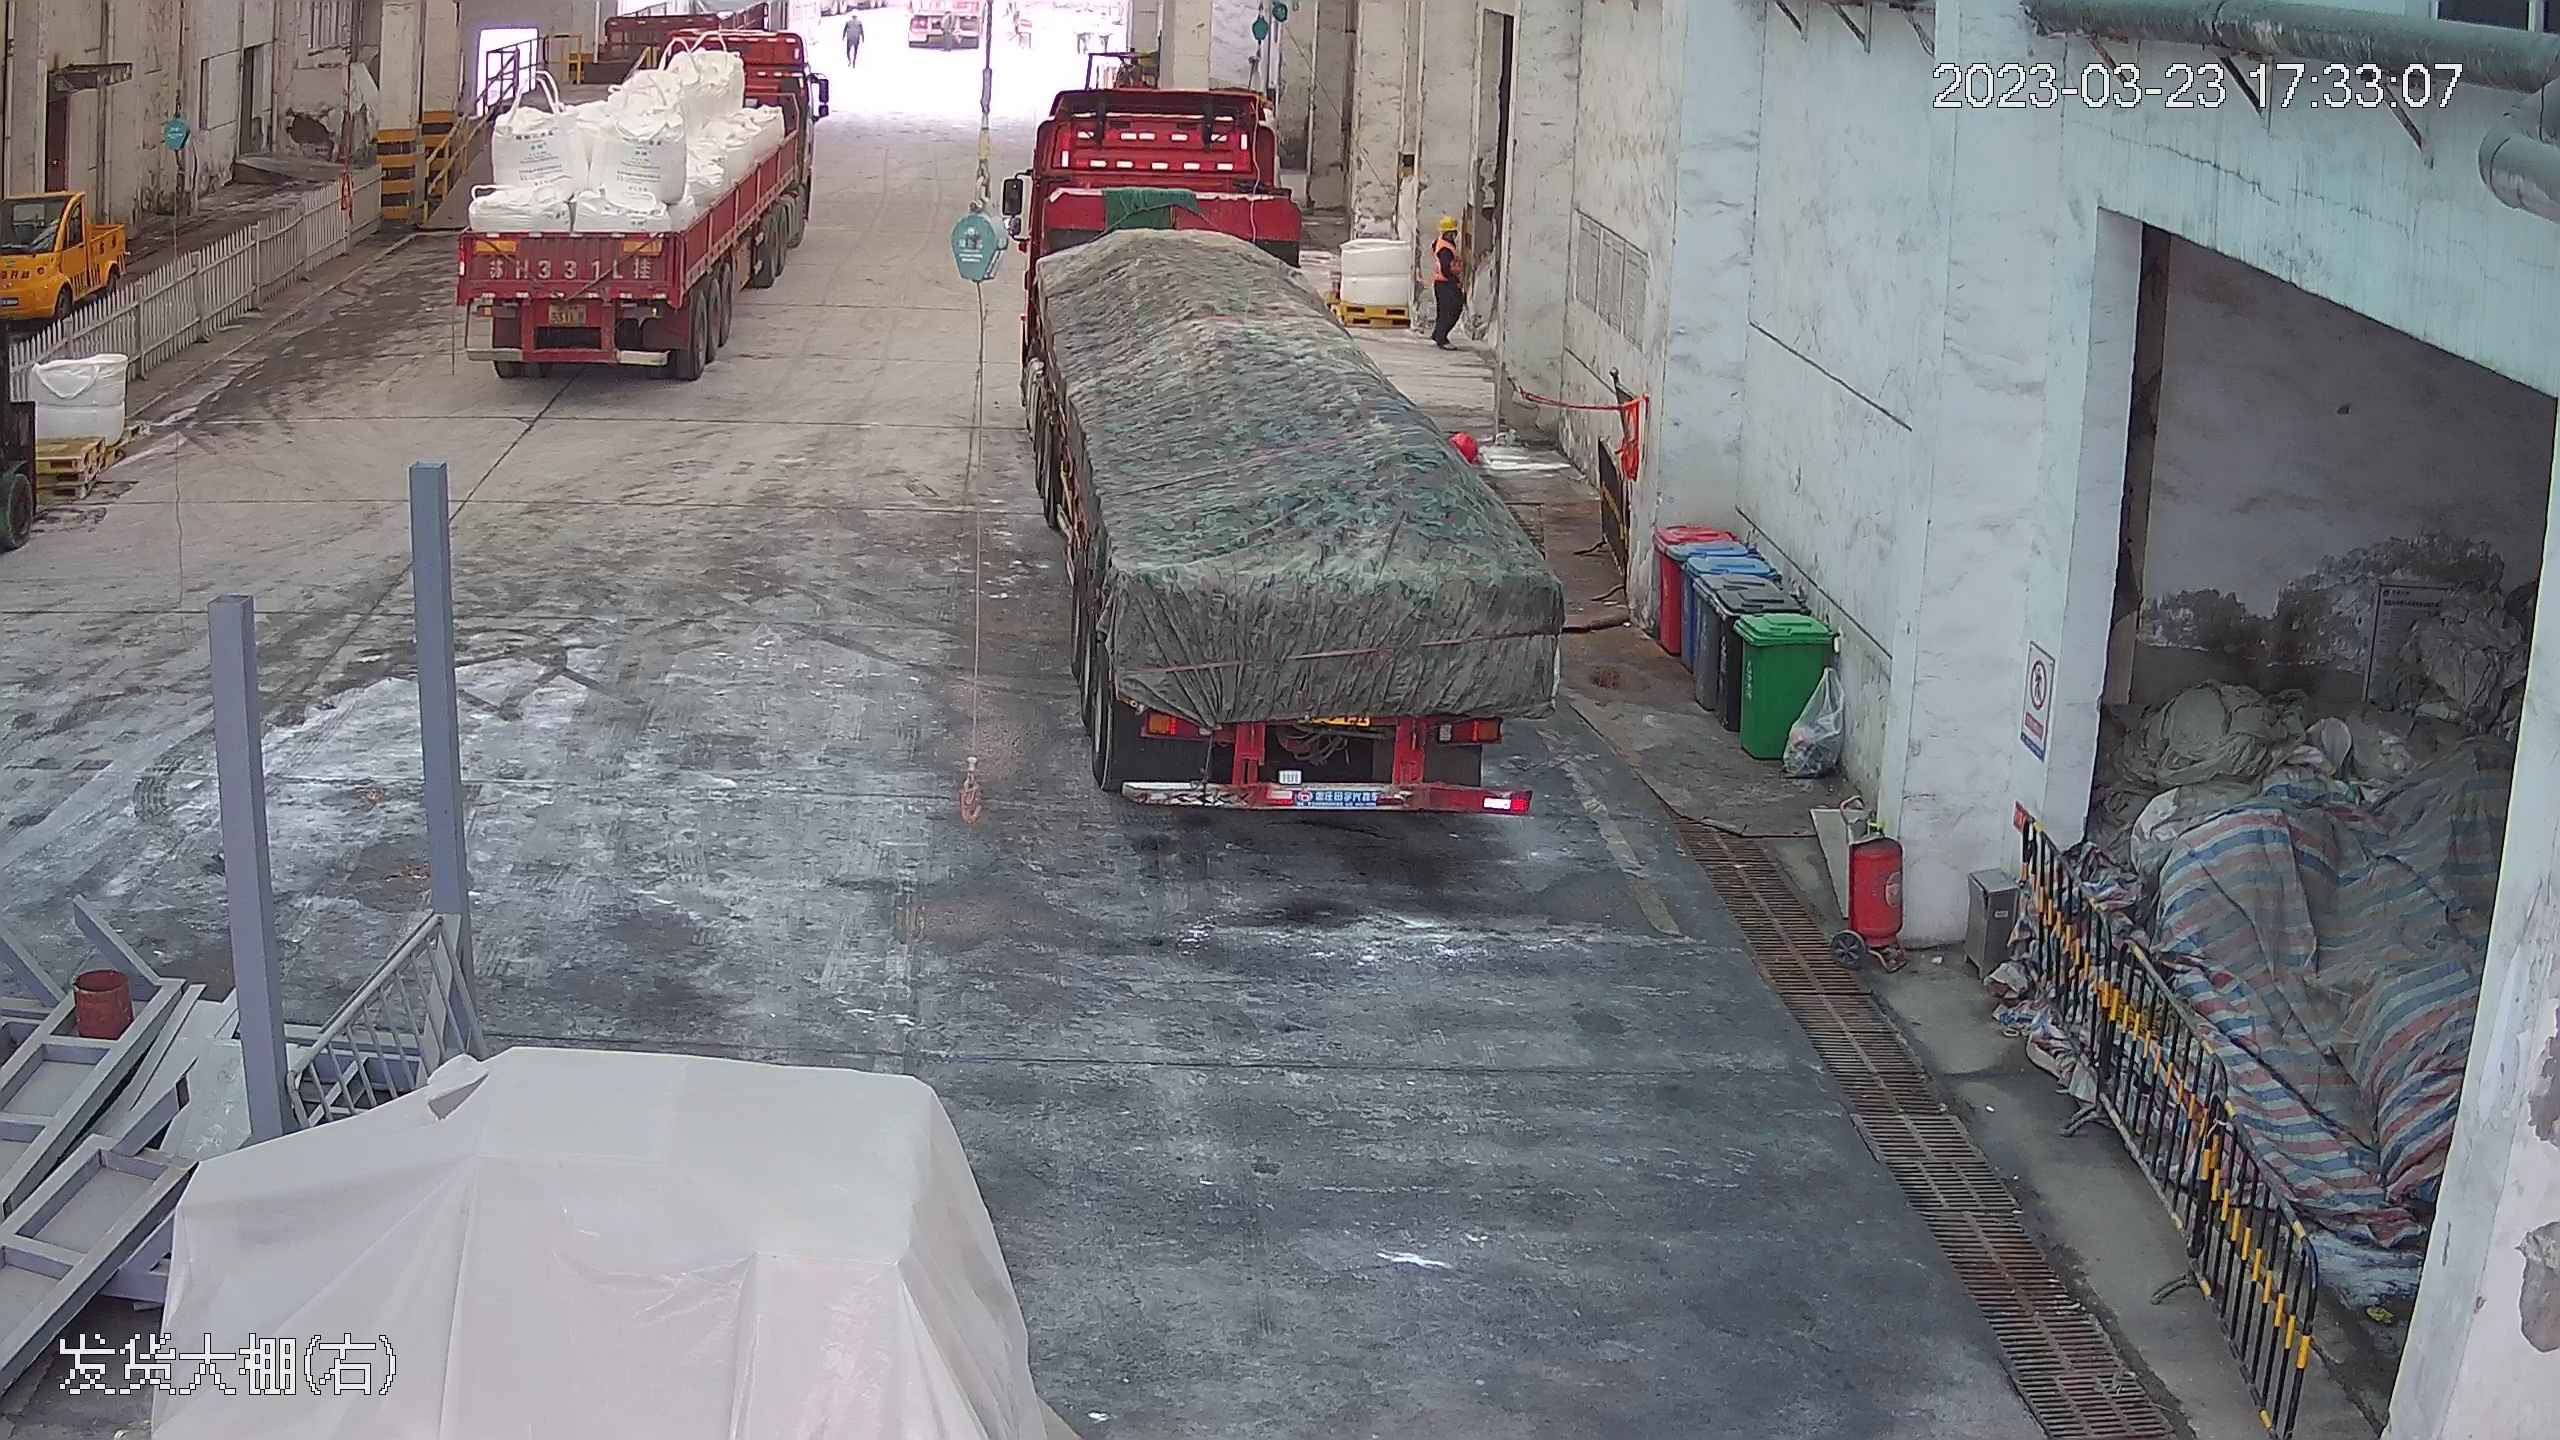head: (1429, 210, 1465, 256)
helmet: (1432, 211, 1456, 231)
people: (1421, 207, 1474, 353), (841, 6, 867, 69)
truck: (1000, 49, 1587, 823), (446, 6, 823, 384)
